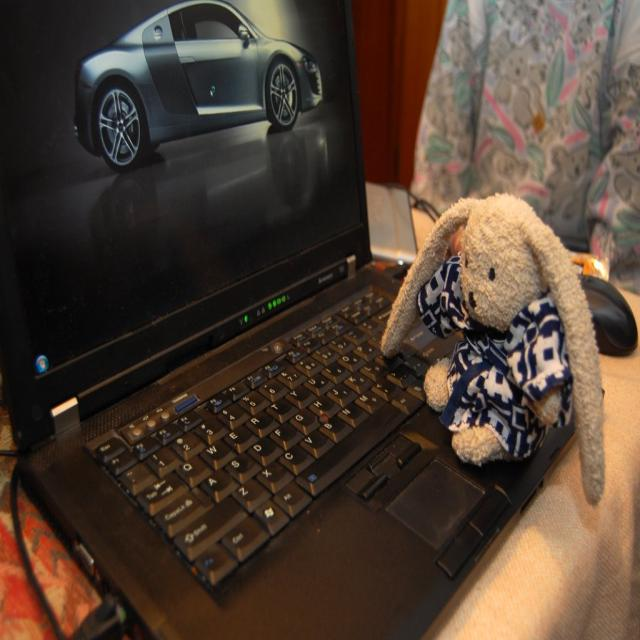Laptop: (43, 46, 543, 621)
